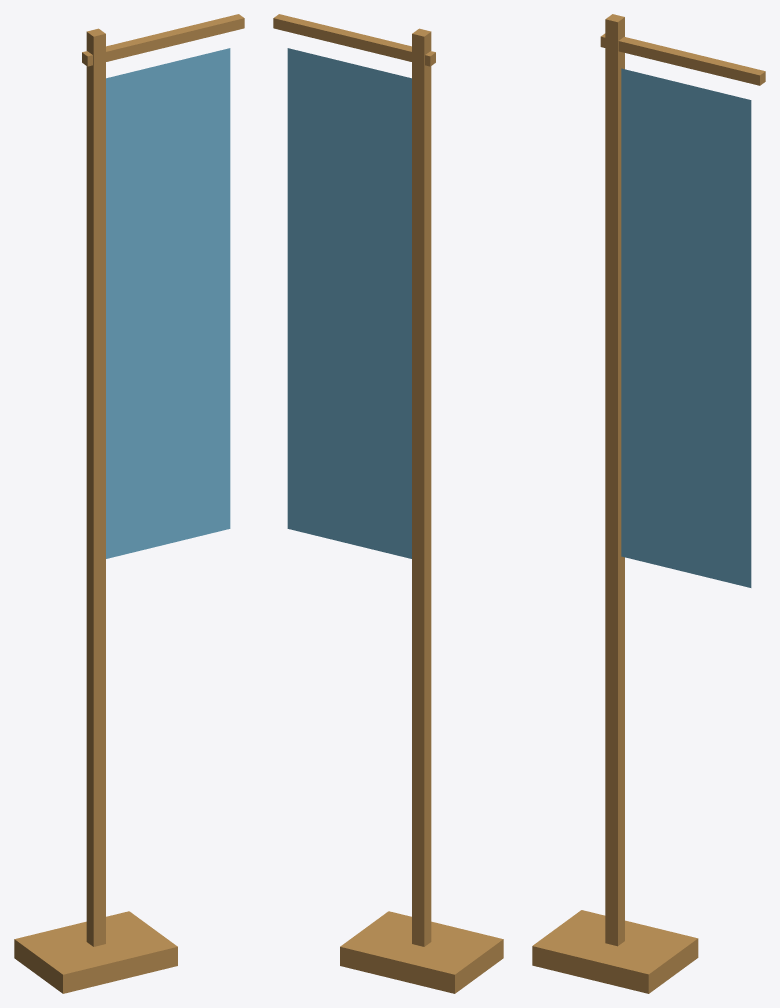
File: nobori_blue.glb
3 renders of one model, left to right at view 1: azimuth 30°, elevation 25°; view 2: azimuth 150°, elevation 25°; view 3: azimuth 330°, elevation 25°, orthographic.
Visible parts, largest first — view 1: nobori_blue; view 2: nobori_blue; view 3: nobori_blue.
Boxes of the visible parts, x1,y1,x2,y2 form: nobori_blue: (14, 14, 244, 993); nobori_blue: (273, 14, 503, 993); nobori_blue: (532, 14, 765, 993).
Size of the model in its own units: 0.1862 by 0.815 by 0.0773.
